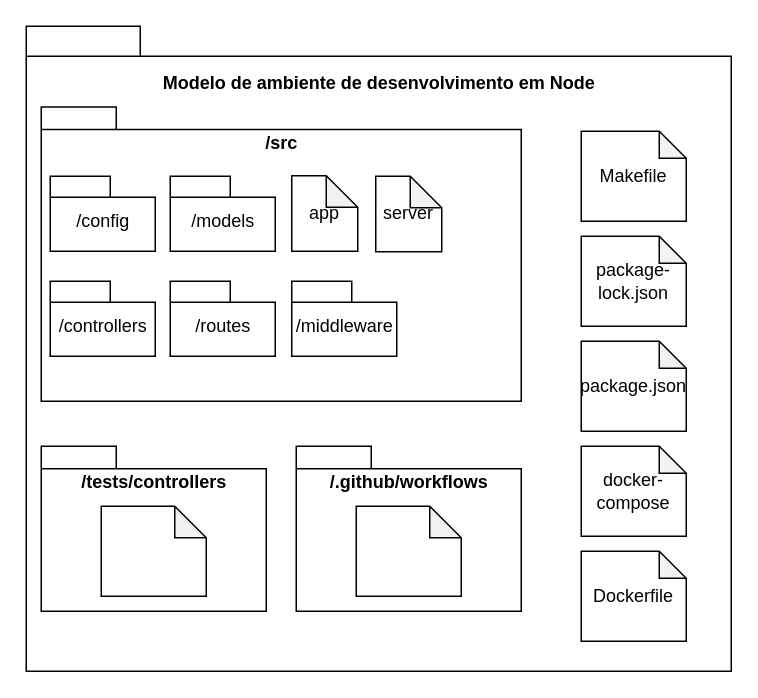
Some shapes in this 758 by 698 pixel diagram are drawn without their labels. Here are the shapes that lost their labels. From the top down, the centre of each, then its label:
[153,550]: *.spec.ts
[408,550]: *.yml
